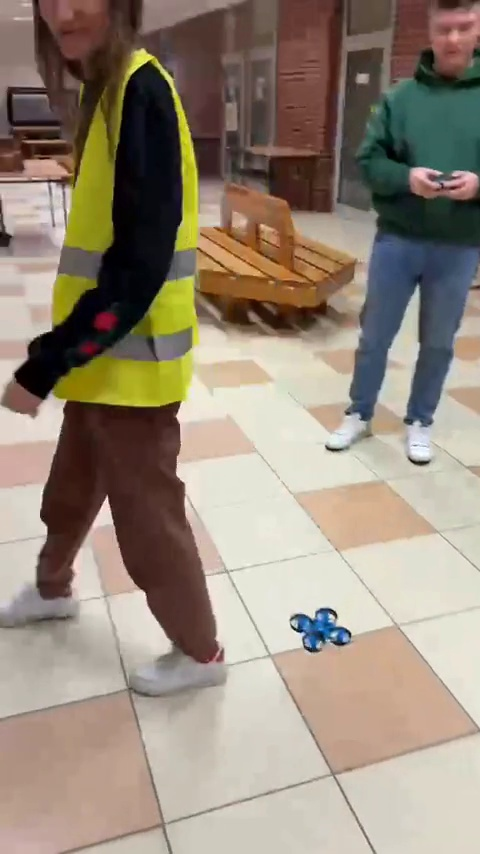drone: (285, 608, 349, 650)
no vest: (340, 4, 477, 477)
vest: (18, 3, 218, 707)
